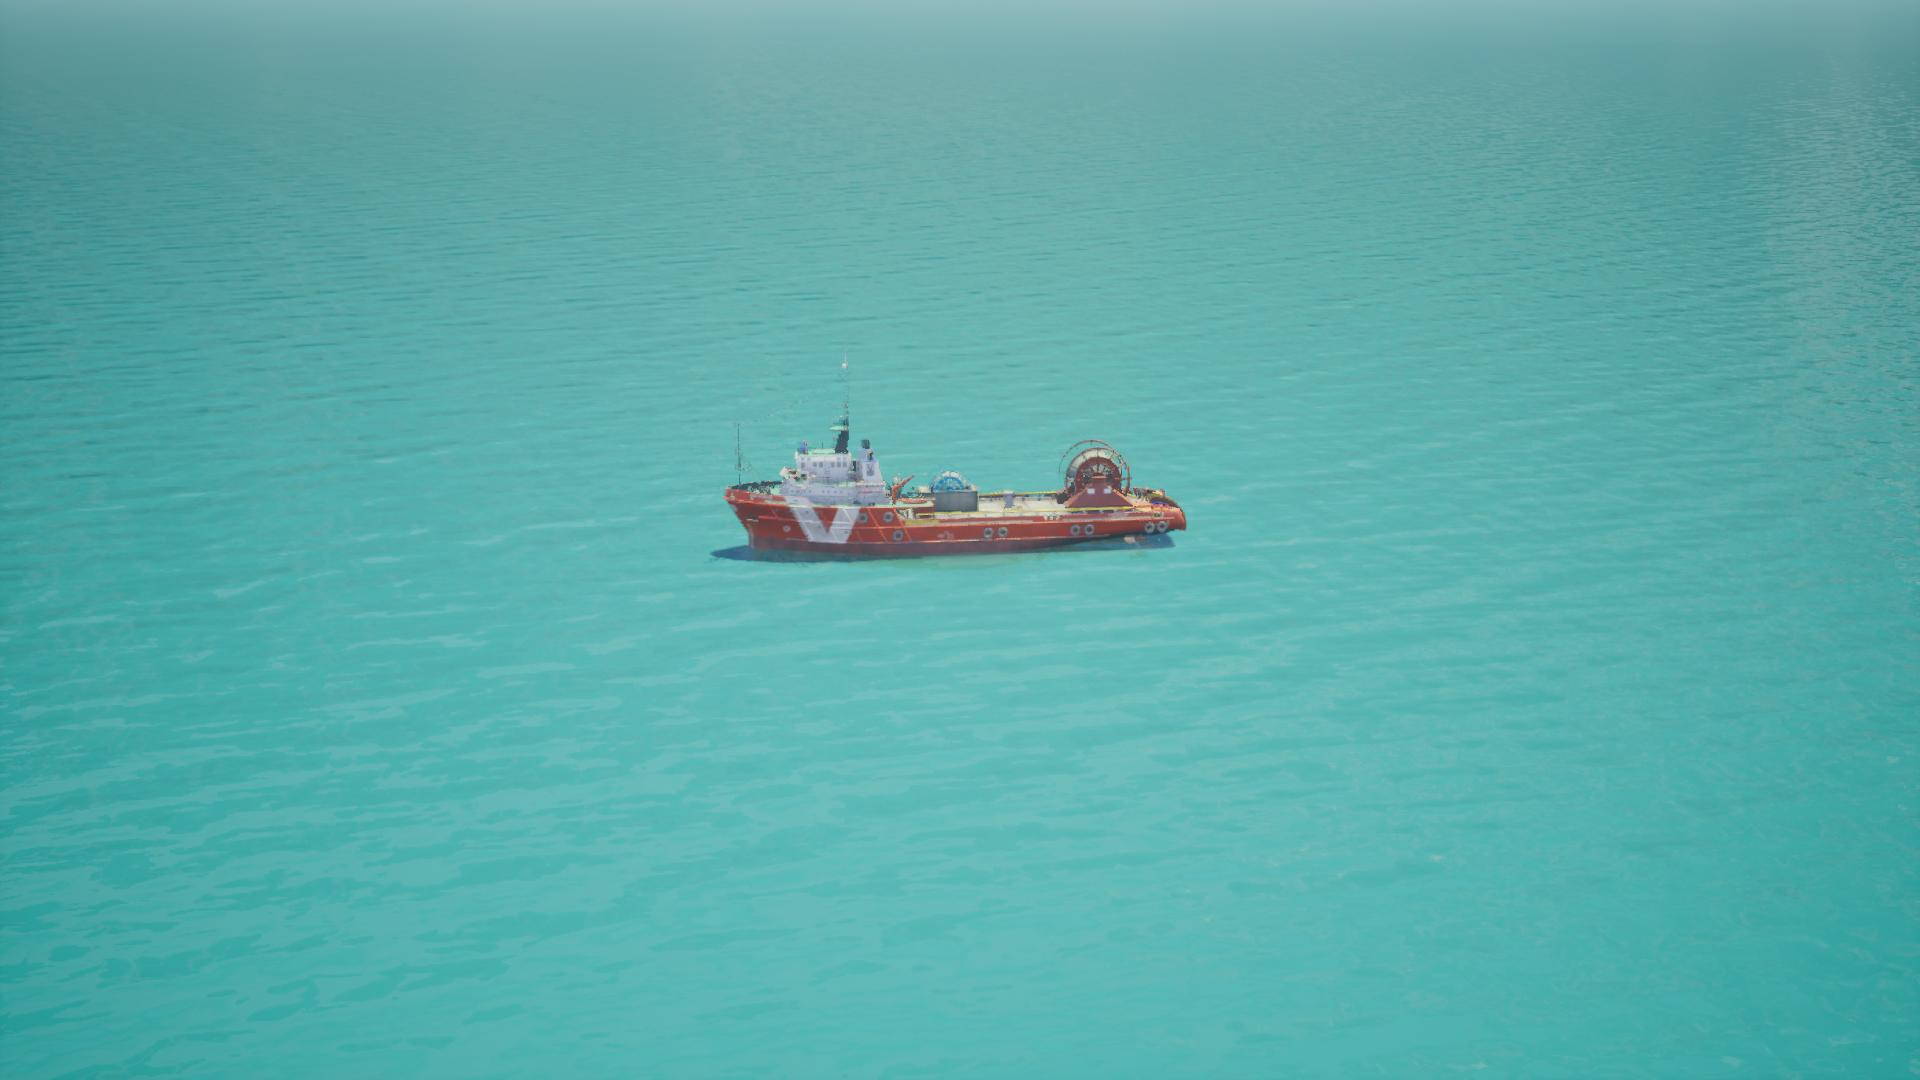Tug Boat: (716, 417, 1188, 566)
